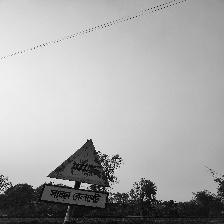Rail-crossing: (41, 132, 109, 213)
